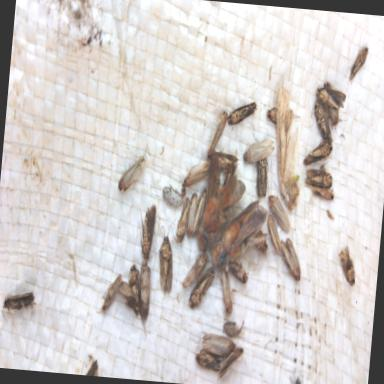pbw: (320, 80, 351, 137), (156, 213, 178, 292), (300, 99, 336, 144), (136, 202, 160, 260), (135, 260, 153, 334), (2, 290, 38, 324), (190, 264, 216, 310), (182, 249, 211, 290), (277, 237, 304, 281), (336, 237, 359, 286), (118, 153, 146, 193), (216, 344, 244, 384), (266, 195, 294, 232), (265, 99, 301, 127), (207, 110, 228, 156), (99, 273, 122, 314), (126, 264, 144, 316), (244, 136, 276, 165), (303, 138, 333, 168), (227, 99, 258, 127), (173, 196, 191, 243), (315, 84, 347, 110), (194, 348, 228, 372), (349, 44, 371, 81), (183, 158, 210, 188), (192, 187, 208, 237), (206, 151, 240, 174), (202, 333, 236, 356), (266, 214, 286, 252), (116, 278, 140, 308), (219, 272, 236, 314), (255, 156, 272, 197), (304, 182, 336, 201), (304, 168, 334, 188), (228, 260, 250, 284), (187, 192, 198, 237), (253, 229, 271, 254), (224, 317, 244, 337), (86, 358, 100, 376)
